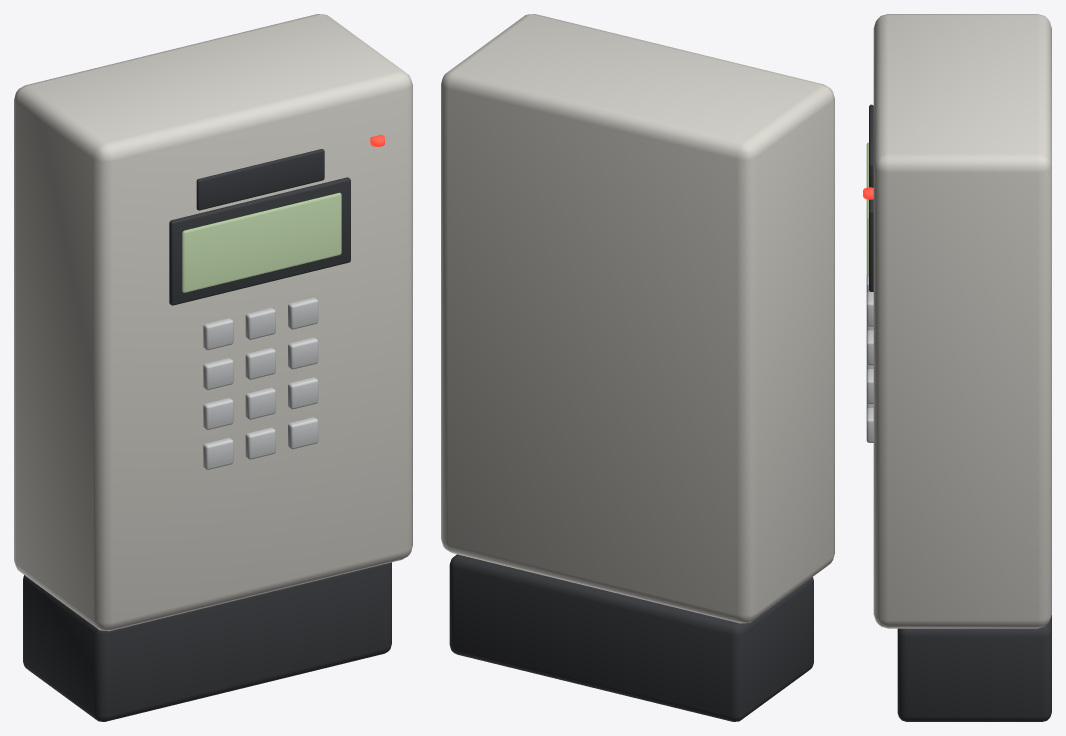
The model's file is bl_kwh_meter.glb.
The picture shows the model from 3 angles, left to right: view 1: azimuth 30°, elevation 25°; view 2: azimuth 150°, elevation 25°; view 3: azimuth 270°, elevation 25°; orthographic projection. The views are drawn at different scales.
Visible parts, largest first — view 1: body, terminal, lcd, lcdFrame, plate, key00, key01, key02, key11, key12, key21, key31 (+5 smaller); view 2: body, terminal; view 3: body, terminal, lcdFrame, plate, lcd.
Part boxes in pixels (x1=…): body: x1=14, y1=14, x2=412, y2=631; terminal: x1=23, y1=562, x2=391, y2=721; lcd: x1=182, y1=192, x2=341, y2=292; lcdFrame: x1=169, y1=177, x2=350, y2=305; plate: x1=196, y1=149, x2=324, y2=210; key00: x1=203, y1=318, x2=233, y2=350; key01: x1=245, y1=308, x2=275, y2=339; key02: x1=288, y1=297, x2=318, y2=329; key11: x1=245, y1=347, x2=275, y2=379; key12: x1=288, y1=337, x2=318, y2=369; key21: x1=245, y1=387, x2=275, y2=419; key31: x1=245, y1=427, x2=275, y2=459; body: x1=441, y1=14, x2=834, y2=623; terminal: x1=449, y1=554, x2=813, y2=721; body: x1=873, y1=14, x2=1051, y2=628; terminal: x1=897, y1=615, x2=1051, y2=721; lcdFrame: x1=869, y1=199, x2=873, y2=291; plate: x1=869, y1=104, x2=873, y2=187; lcd: x1=866, y1=142, x2=868, y2=276.
Size of the model in its own units: 0.15 by 0.265 by 0.0795.
